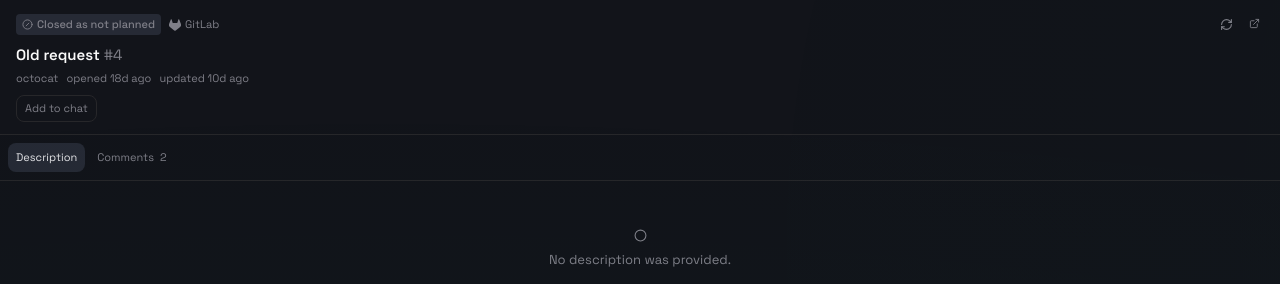
Scenario: IssuePanel › renders empty states for a payload with no description or comments
Expected: the text "No description was provided." is shown, [549,229,731,268]
Click the tab "Comments 2" at [132, 157], box [89,143,175,172]
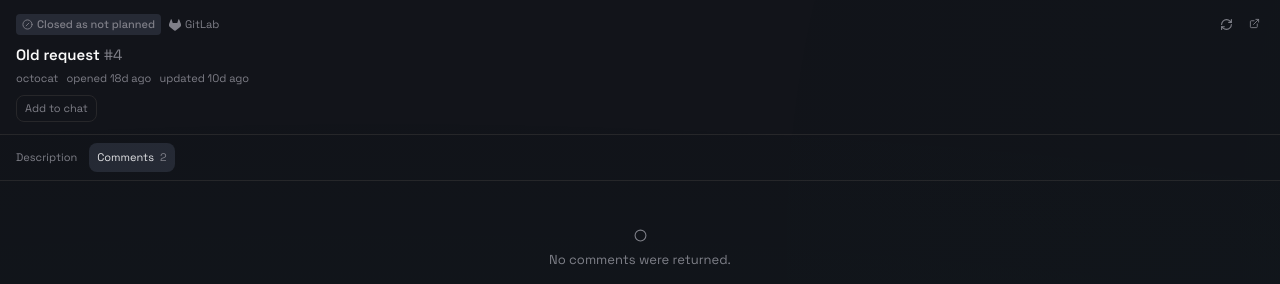
Expected: the text "No comments were returned." is shown, [549,229,731,268]
